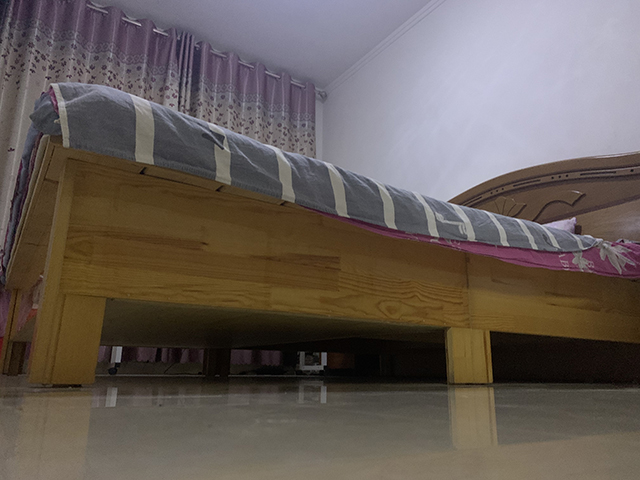bed: (2, 71, 640, 389)
